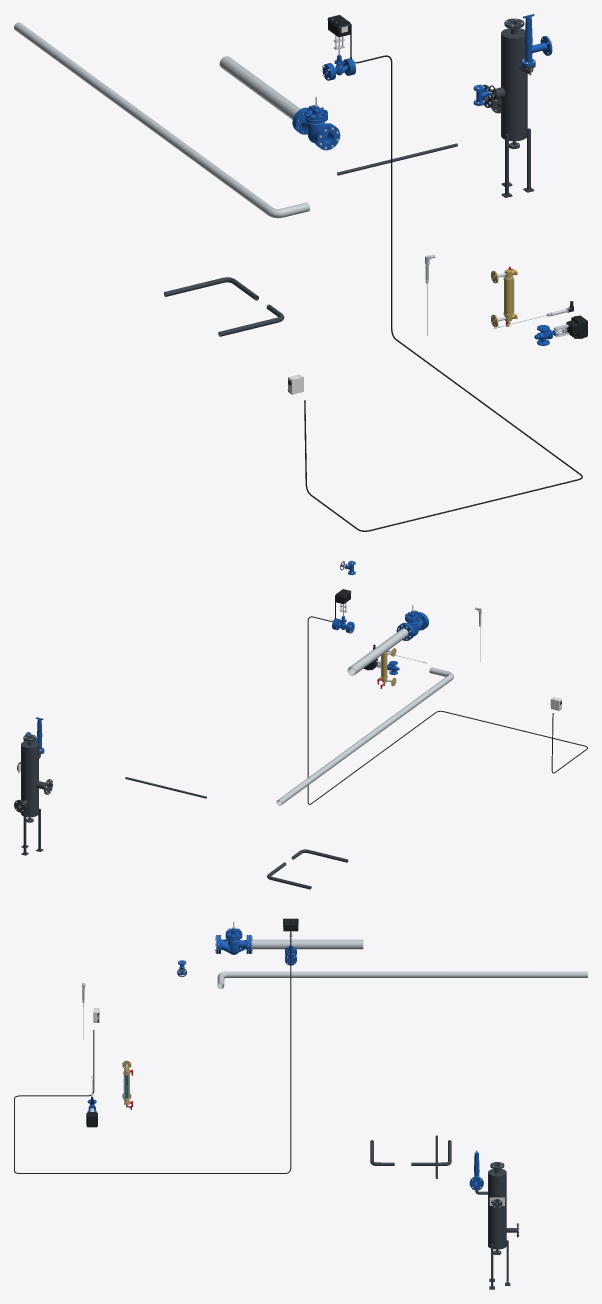
The model's file is s4000-3-XxmpI39f.glb.
3 renders of one model, top to bottom at view 1: azimuth 30°, elevation 25°; view 2: azimuth 150°, elevation 25°; view 3: azimuth 270°, elevation 25°, orthographic. The views are drawn at different scales.
Parts seen in each view (by area): view 1: separator_fv8 / dark, safety_vent_2 / steel, mod_eco_drive_cable / black, steam_delivery / steel, gpz CAD solid 0, bcv925 / bcv925_0.npz, sight_glasses_1 / sight_glasses_1_0.npz, flash_steam_common / blue; view 2: separator_fv8 / dark, safety_vent_2 / steel, mod_eco_drive_cable / black, steam_delivery / steel; view 3: safety_vent_2 / steel, separator_fv8 / dark, steam_delivery / steel, mod_eco_drive_cable / black, gpz CAD solid 0.
Boxes of the visible parts, x1,y1,x2,y2 form: separator_fv8 / dark: [482, 18, 535, 197]; safety_vent_2 / steel: [14, 22, 309, 218]; mod_eco_drive_cable / black: [304, 24, 582, 531]; steam_delivery / steel: [219, 56, 300, 119]; gpz CAD solid 0: [294, 96, 332, 146]; bcv925 / bcv925_0.npz: [534, 315, 587, 345]; sight_glasses_1 / sight_glasses_1_0.npz: [491, 266, 517, 327]; flash_steam_common / blue: [521, 14, 552, 66]; separator_fv8 / dark: [14, 734, 52, 855]; safety_vent_2 / steel: [276, 667, 453, 805]; mod_eco_drive_cable / black: [307, 595, 587, 804]; steam_delivery / steel: [347, 628, 408, 675]; safety_vent_2 / steel: [217, 971, 587, 988]; separator_fv8 / dark: [472, 1162, 518, 1289]; steam_delivery / steel: [251, 939, 363, 949]; mod_eco_drive_cable / black: [14, 928, 291, 1173]; gpz CAD solid 0: [218, 921, 248, 954].
Bounding box in the file's own units: 5.01 × 3.24 × 6.65.
